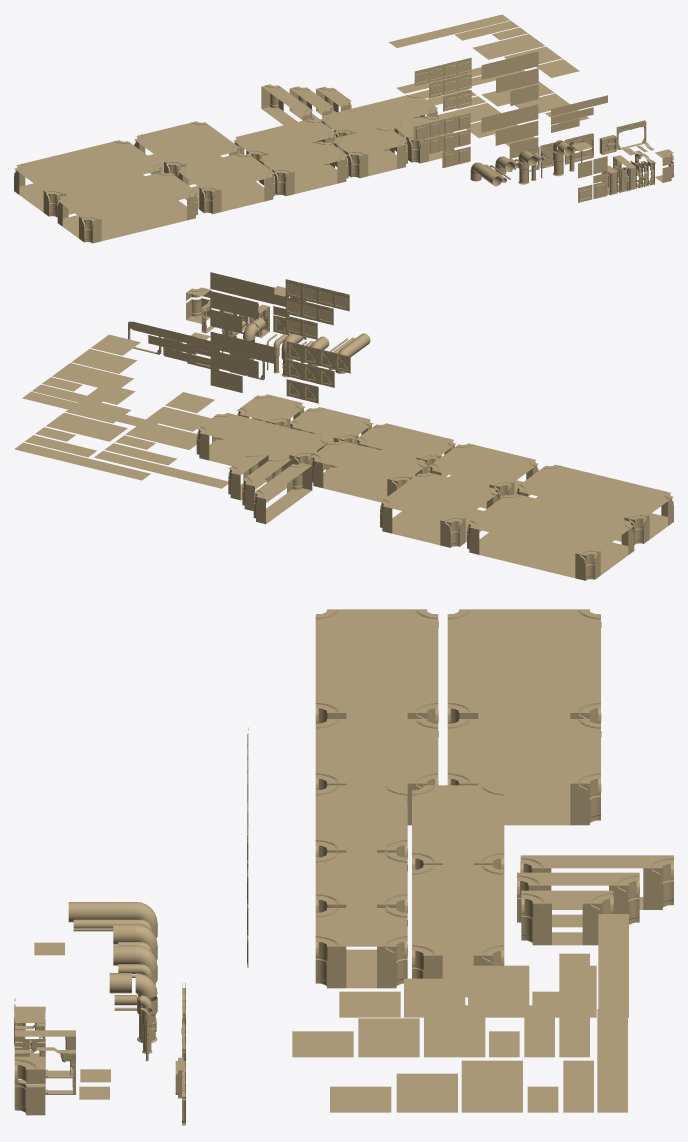
The model's file is Corridor_Parts.fbx.
3 renders of one model, top to bottom at view 1: azimuth 30°, elevation 25°; view 2: azimuth 150°, elevation 25°; view 3: azimuth 270°, elevation 25°, orthographic. The views are drawn at different scales.
Parts seen in each view (by area): view 1: CP_v9_14, CP_v9_13, CP_v9_9, CP_v9_6, CP_v9_10, CP_v9_5, CP_v9_7, CP_v9_8, CP_v9_12, CP_v9_4, CP_v17_7, CP_v17_4 (+26 smaller); view 2: CP_v9_13, CP_v9_14, CP_v9_10, CP_v9_8, CP_v9_7, CP_v9_9, CP_v9_6, CP_v9_12, CP_v9_5, CP_v9_4, CP_v7_7, CP_v17_7 (+27 smaller); view 3: CP_v9_13, CP_v9_10, CP_v9_14, CP_v9_7, CP_v9_9, CP_v9_8, CP_v9_4, CP_v9_6, CP_v9_5, CP_v9_3, CP_v9_12, CP_v9_11 (+24 smaller).
Boxes of the visible parts, x1,y1,x2,y2 form: CP_v9_14: (57,172,197,243); CP_v9_13: (14,140,162,217); CP_v9_9: (178,153,275,214); CP_v9_6: (259,141,348,196); CP_v9_10: (134,121,239,185); CP_v9_5: (333,127,407,178); CP_v9_7: (320,94,438,153); CP_v9_8: (233,119,336,170); CP_v9_12: (261,84,313,125); CP_v9_4: (393,115,454,163); CP_v17_7: (389,14,510,47); CP_v17_4: (472,34,544,59); CP_v9_13: (467,493,634,580); CP_v9_14: (516,464,673,544); CP_v9_10: (380,472,498,547); CP_v9_8: (311,440,427,501); CP_v9_7: (196,413,329,470); CP_v9_9: (429,443,538,508); CP_v9_6: (356,423,456,477); CP_v9_12: (253,463,312,524); CP_v9_5: (289,407,373,453); CP_v9_4: (237,394,305,431); CP_v7_7: (14,442,150,480); CP_v17_7: (22,391,158,429); CP_v9_13: (447,609,601,723); CP_v9_10: (447,719,601,825); CP_v9_14: (315,609,438,723); CP_v9_7: (412,865,504,997); CP_v9_9: (315,719,438,825); CP_v9_8: (412,785,504,869); CP_v9_4: (315,908,407,988); CP_v9_6: (315,785,407,858); CP_v9_5: (315,852,407,912); CP_v9_3: (521,890,613,945); CP_v9_12: (520,855,673,909); CP_v9_11: (517,872,639,927).
Size of the model in its own units: 110 by 22.78 by 64.54.
